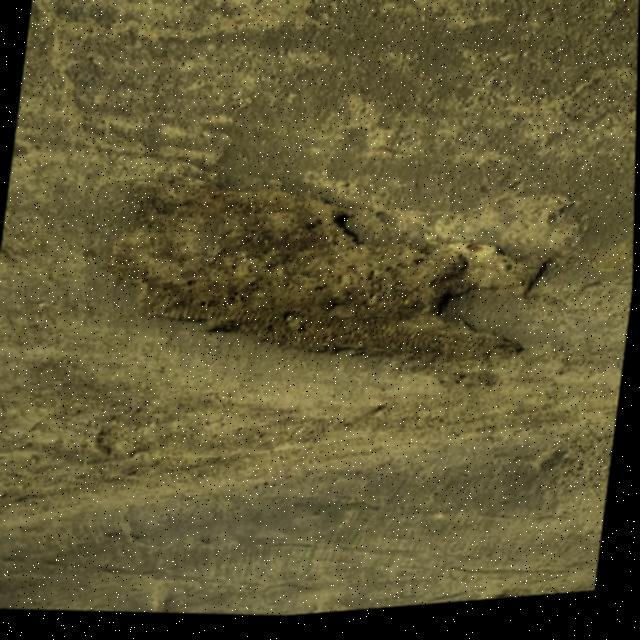pothole: (95, 148, 564, 408)
